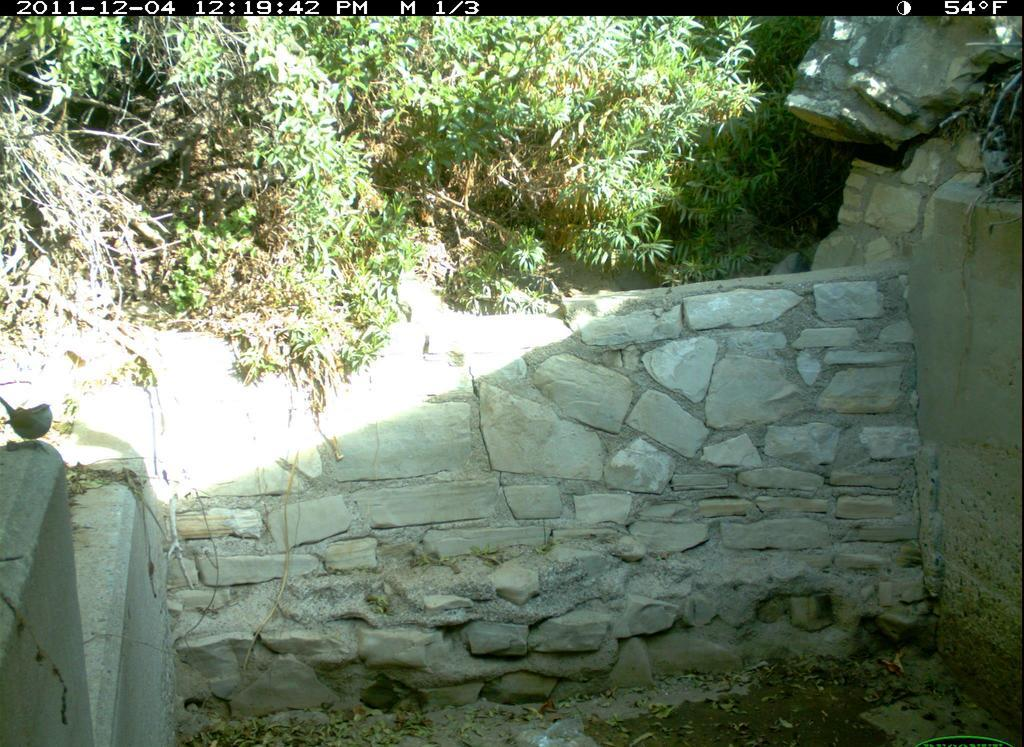bird: (1, 394, 61, 451)
